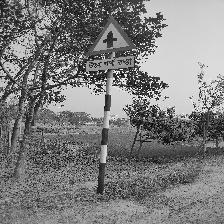Crossroad: (83, 12, 136, 78)
